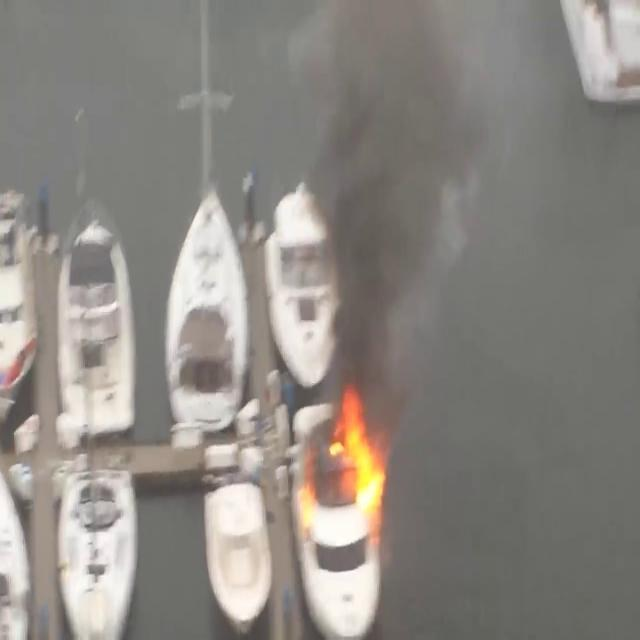Fire: (322, 386, 390, 531)
Smoke: (295, 1, 547, 387)
